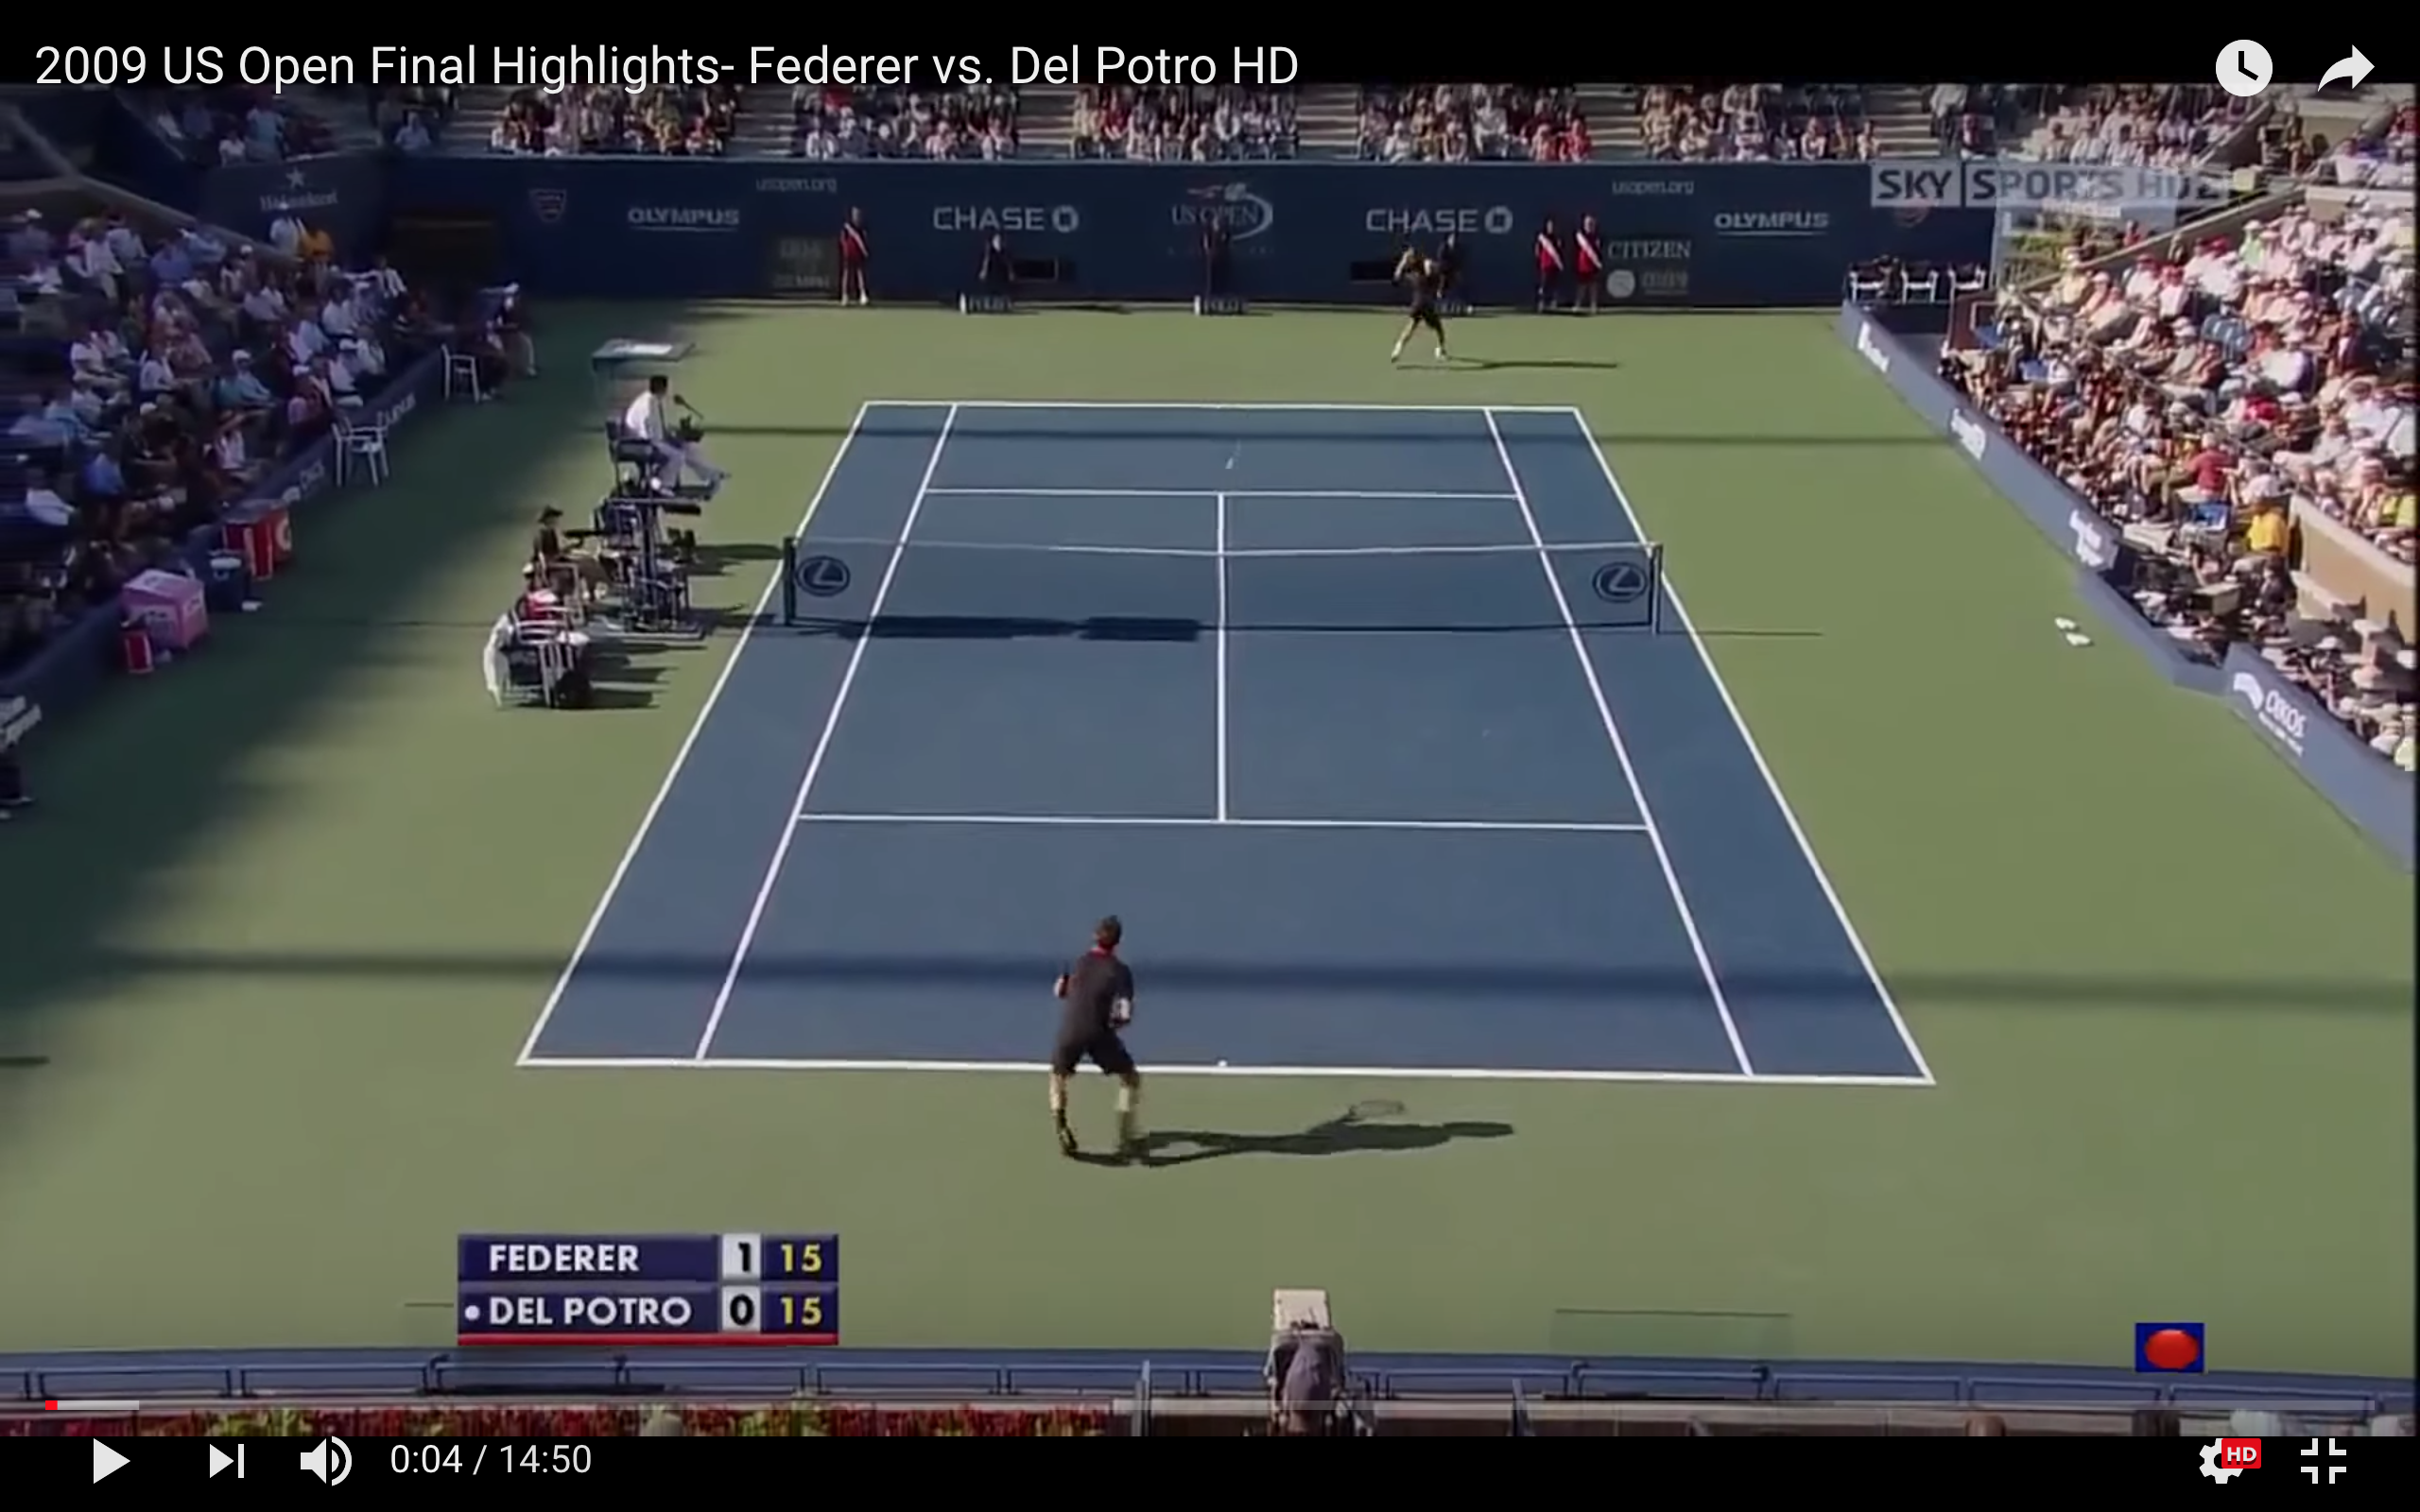tennis ball: (1219, 455, 1244, 478)
tennis player: (1025, 907, 1169, 1169), (1388, 244, 1461, 371)
